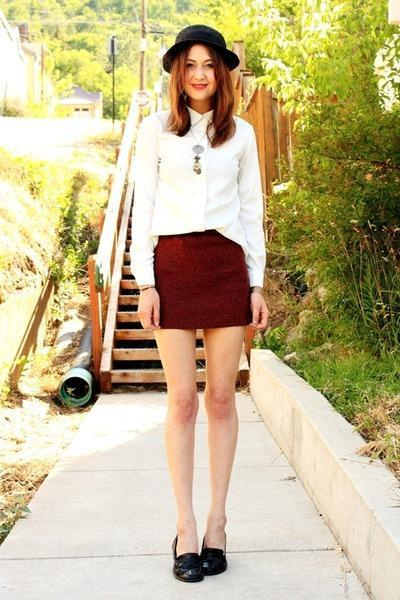hat: (167, 25, 239, 70)
shirt: (128, 108, 268, 286)
shoe: (173, 540, 226, 582)
skirt: (152, 229, 256, 347)
